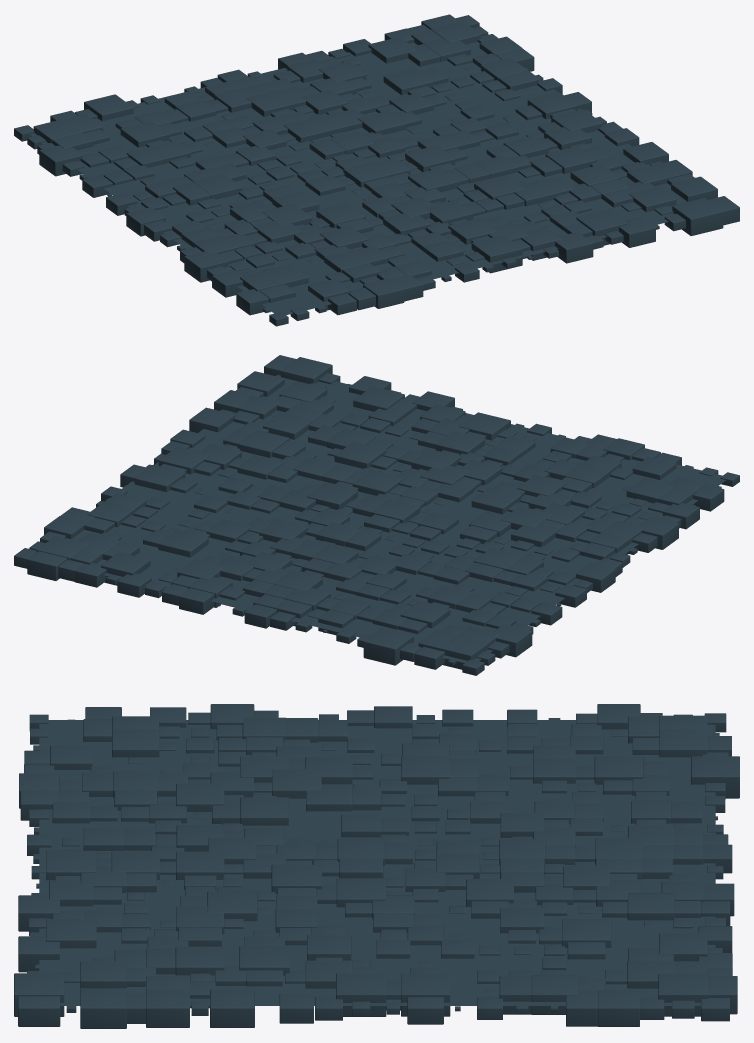
The model's file is blockFloor.glb.
3 renders of one model, top to bottom at view 1: azimuth 30°, elevation 25°; view 2: azimuth 150°, elevation 25°; view 3: azimuth 270°, elevation 25°, orthographic. The views are drawn at different scales.
Visible parts, largest first — view 1: 块, 地面; view 2: 块, 地面; view 3: 块, 地面.
Part boxes in pixels (x1,y1,x2,y2): 块: (14,14,739,326); 地面: (29,41,687,315); 块: (14,355,739,675); 地面: (65,375,725,662); 块: (14,704,739,1028); 地面: (39,720,715,1005).
Bounding box in the file's own units: 21.85 × 0.7704 × 21.99.
